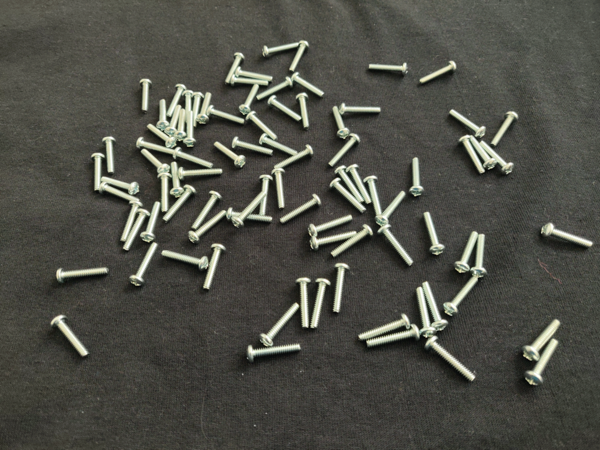longscrew: (424, 336, 478, 383), (523, 338, 561, 387), (522, 319, 563, 364), (259, 302, 300, 347), (49, 314, 90, 359), (377, 224, 415, 267), (358, 313, 412, 342), (443, 276, 480, 318), (541, 223, 594, 250), (422, 281, 450, 332), (329, 177, 367, 214), (367, 324, 421, 350), (188, 210, 228, 245), (163, 184, 198, 224), (129, 242, 159, 288), (331, 225, 374, 257), (231, 191, 267, 229), (280, 194, 324, 225), (191, 190, 224, 231), (479, 140, 516, 176), (122, 208, 152, 251), (374, 190, 407, 228), (334, 165, 366, 204), (415, 286, 438, 339), (246, 342, 301, 364), (345, 164, 373, 206), (203, 244, 228, 291), (310, 277, 332, 330), (458, 135, 487, 175), (328, 133, 361, 168), (454, 230, 480, 274), (449, 109, 487, 139), (161, 250, 210, 273), (274, 144, 315, 171), (119, 201, 145, 243), (469, 135, 499, 171), (308, 214, 353, 238), (330, 263, 351, 314), (423, 211, 446, 257), (309, 230, 357, 252), (491, 111, 520, 147), (246, 111, 279, 142), (267, 94, 302, 123), (259, 133, 299, 158), (98, 181, 141, 204), (419, 60, 458, 85), (294, 277, 312, 331), (56, 267, 110, 285), (257, 76, 294, 102), (214, 141, 248, 169), (290, 72, 325, 99), (173, 147, 214, 170), (140, 201, 162, 243), (231, 136, 274, 157), (226, 207, 273, 226), (206, 105, 246, 126), (469, 234, 488, 278), (364, 175, 383, 219), (140, 149, 171, 175), (136, 136, 176, 156), (146, 123, 178, 148), (166, 83, 188, 118), (101, 177, 140, 196), (238, 84, 261, 116), (225, 52, 246, 86), (289, 40, 310, 73), (408, 157, 425, 197), (262, 41, 299, 59), (235, 66, 274, 83), (258, 175, 274, 216), (157, 173, 173, 214), (332, 106, 351, 140), (271, 168, 286, 211), (178, 167, 224, 181), (164, 104, 183, 137), (90, 153, 106, 192), (368, 61, 409, 76), (296, 92, 311, 131), (102, 136, 117, 175), (170, 161, 185, 199), (339, 103, 382, 116), (183, 110, 198, 147), (197, 92, 213, 125), (191, 91, 205, 128), (139, 78, 153, 114), (231, 74, 269, 87), (156, 98, 170, 131), (182, 90, 195, 125), (174, 108, 187, 142)
